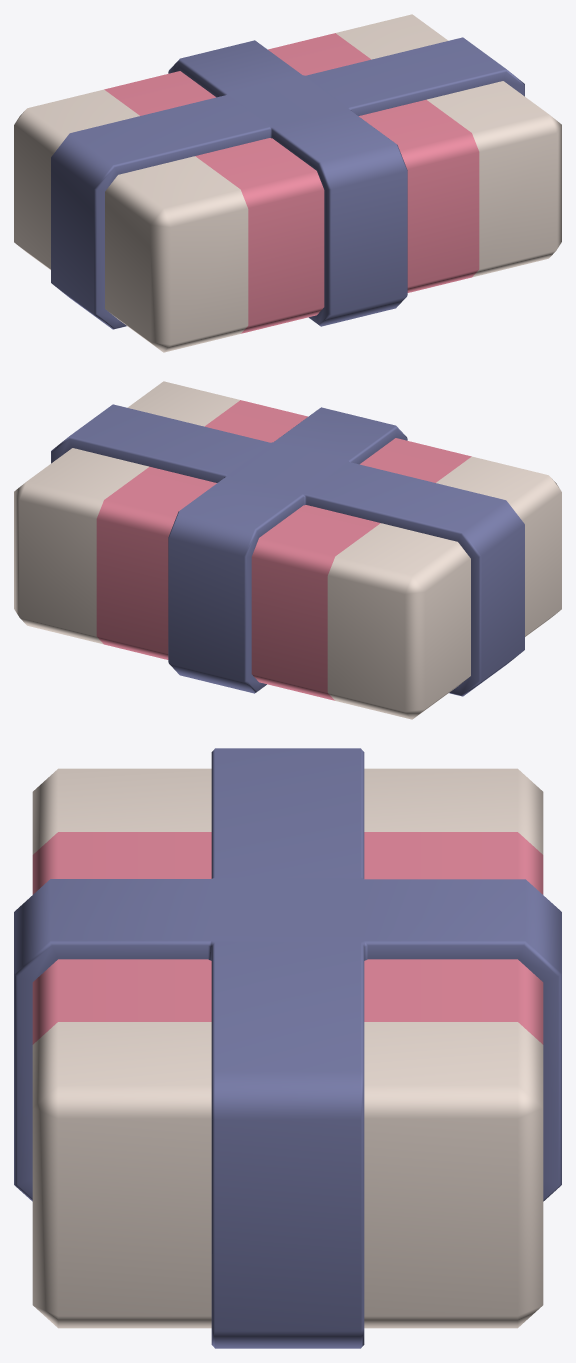
File: Present_2.glb
The picture shows the model from 3 angles, top to bottom: view 1: azimuth 30°, elevation 25°; view 2: azimuth 150°, elevation 25°; view 3: azimuth 270°, elevation 25°; orthographic projection. The views are drawn at different scales.
Parts seen in each view (by area): view 1: Present_2; view 2: Present_2; view 3: Present_2.
Boxes of the visible parts, left/top/right/bottom form: Present_2: left=14, top=14, right=561, bottom=352; Present_2: left=14, top=381, right=561, bottom=719; Present_2: left=14, top=748, right=561, bottom=1348.
Bounding box in the file's own units: 0.425 × 0.1553 × 0.2782.
Materials: 1 (1 with a texture image).
